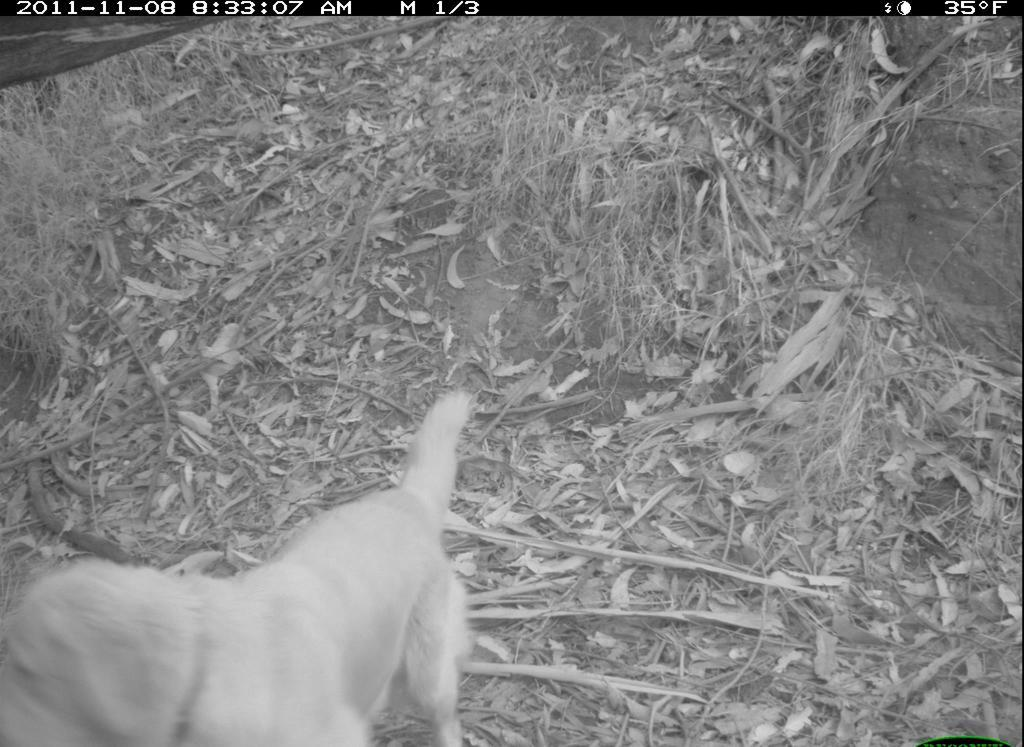dog: (1, 379, 511, 745)
